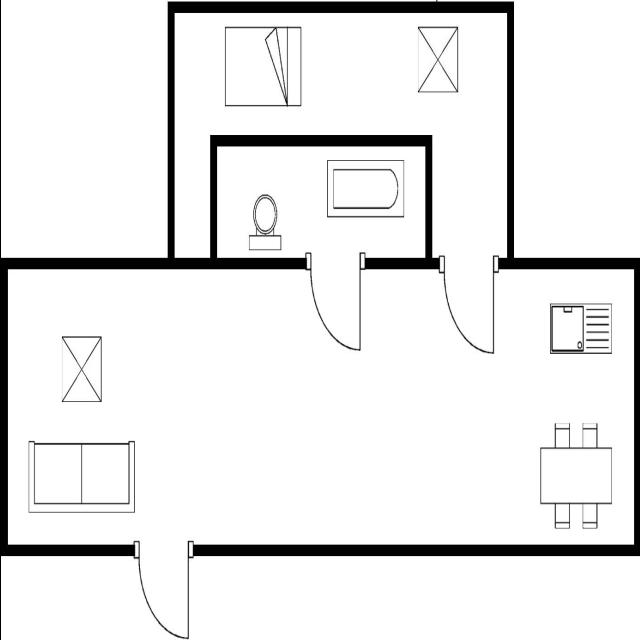bed: (222, 19, 304, 112)
coffee_table: (55, 329, 105, 409), (414, 22, 460, 98)
dining_table: (534, 416, 614, 532)
large_sink: (245, 188, 282, 252)
large_sofa: (24, 434, 138, 520)
sink: (545, 297, 616, 357)
tub: (323, 154, 407, 224)
